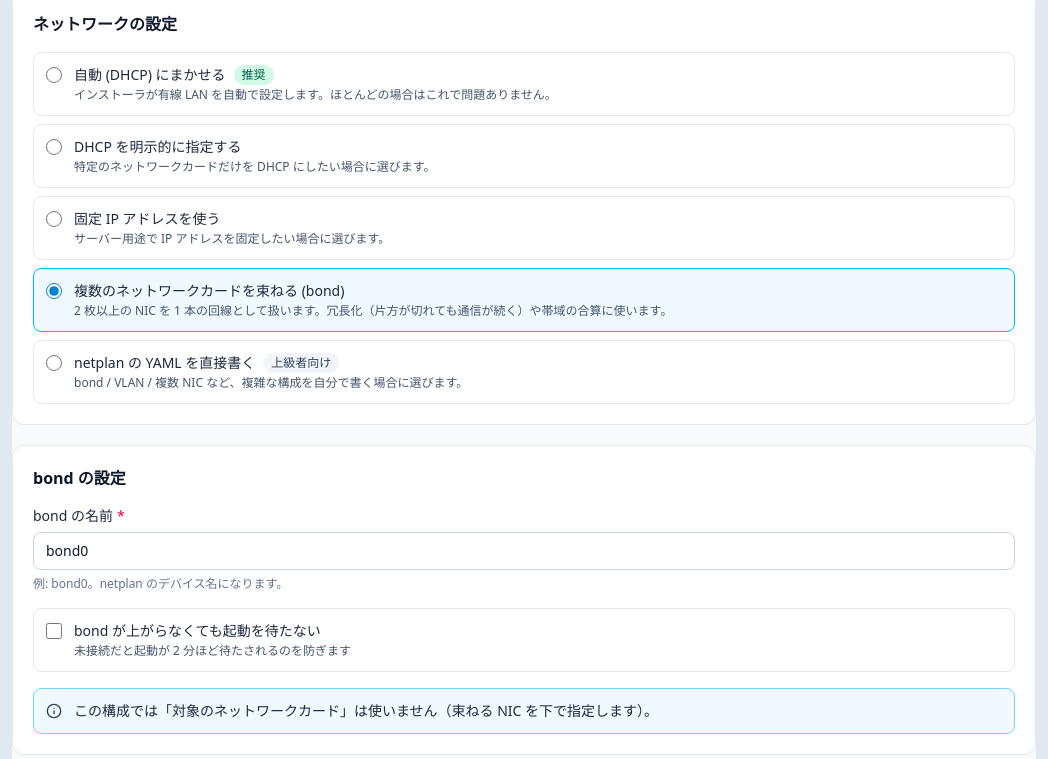
Scenario: bond を選ぶ › bond をやめれば元の 3 モードへ戻れる（既存の動きを変えない）
The image size is (1048, 759).
Click the radio button labelled "固定 IP アドレスを使う サーバー用途で IP アドレスを固定したい場合に選びます。".
click(54, 219)  # box [46,211,62,227]
(page scrolled)
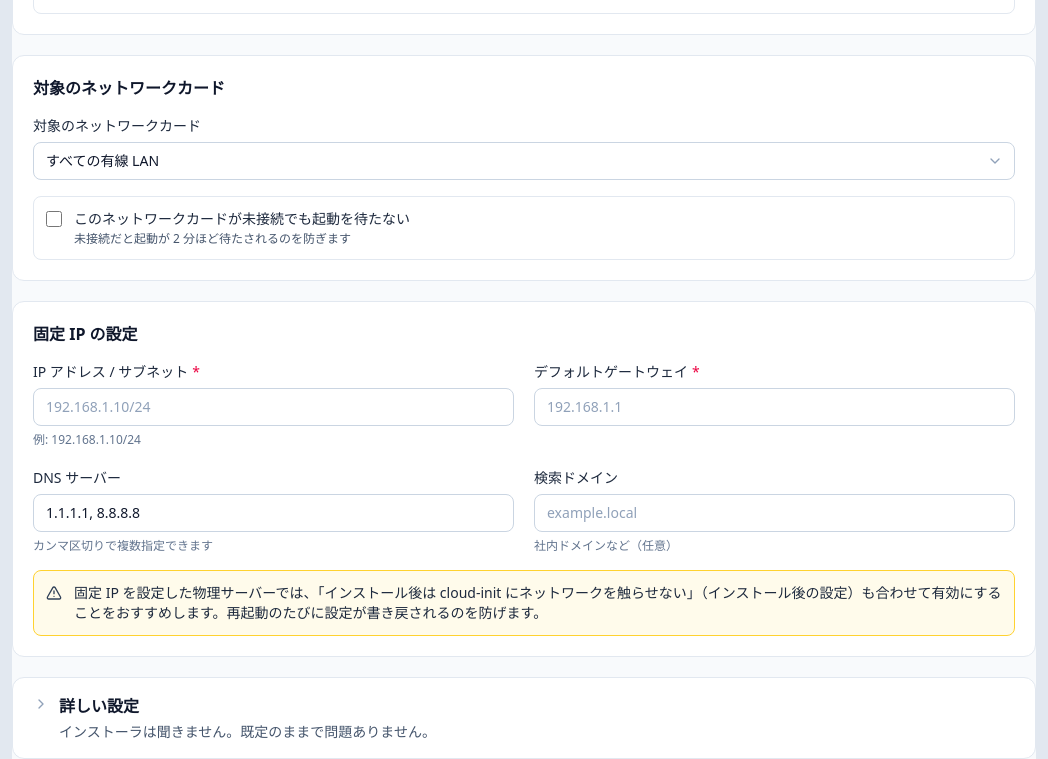
Check: the field with placeholder "192.168.1.10/24" is shown, box [33,388,514,426]
